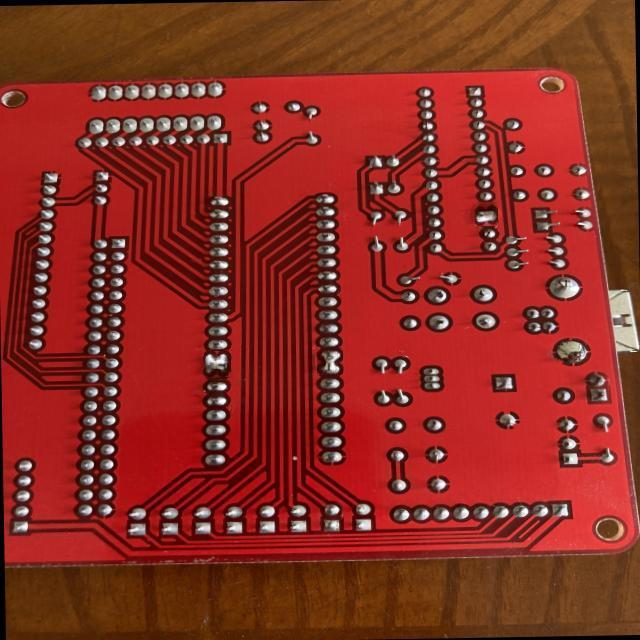damged: (316, 348, 344, 376), (204, 351, 231, 378), (474, 202, 498, 226)
